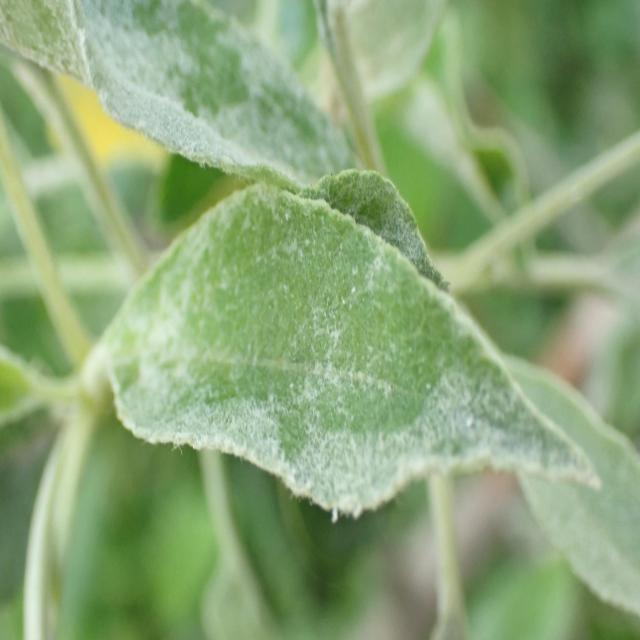Powdery_mildew: (94, 175, 604, 543), (0, 0, 415, 221), (497, 326, 640, 640)
